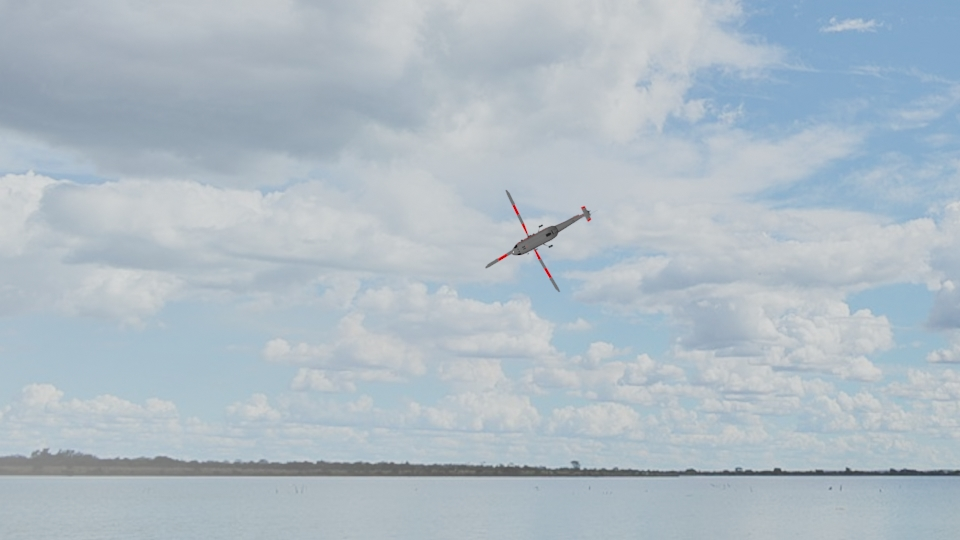heli: (485, 186, 597, 268)
